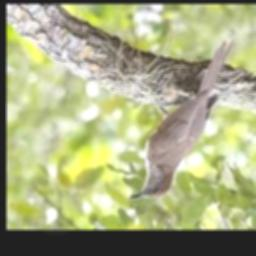Cuckoo: (129, 36, 236, 200)
